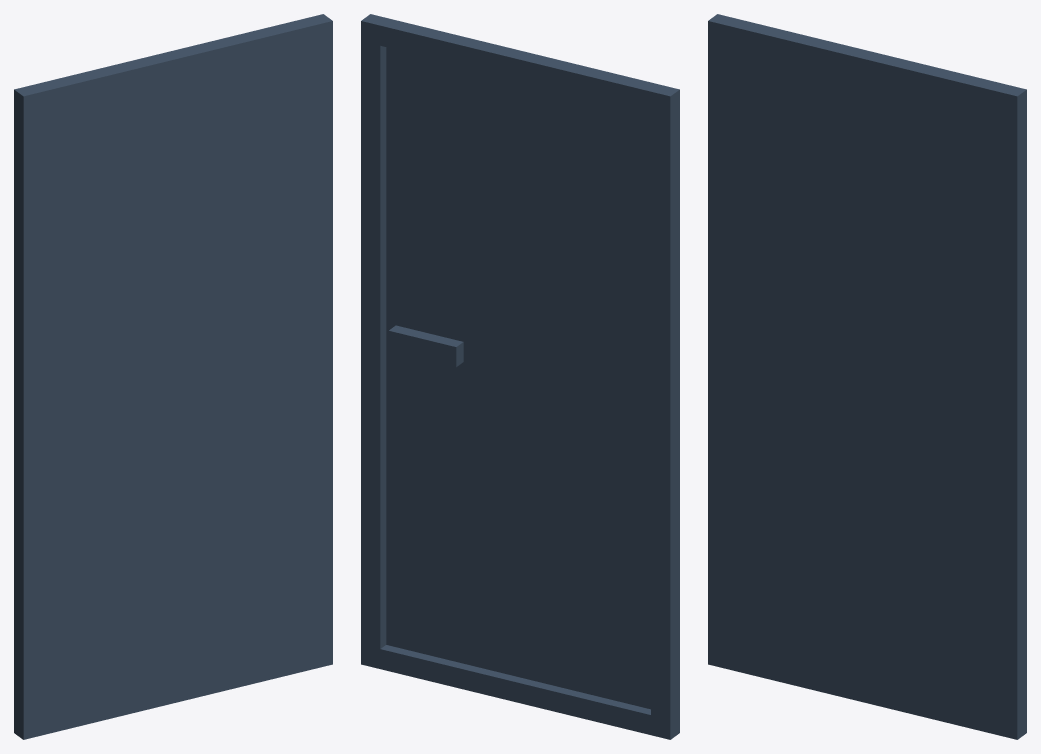
Rendered from Base Color Door.fbx.
3 views of the same model, side by side, from view 1: azimuth 30°, elevation 25°; view 2: azimuth 150°, elevation 25°; view 3: azimuth 330°, elevation 25° (orthographic).
Parts seen in each view (by area): view 1: Door; view 2: Door; view 3: Door.
Part boxes in pixels (x1,y1,x2,y2): Door: (14,14,332,739); Door: (361,14,679,739); Door: (708,14,1026,739).
Bounding box in the file's own units: 408 × 812 × 24.77.
